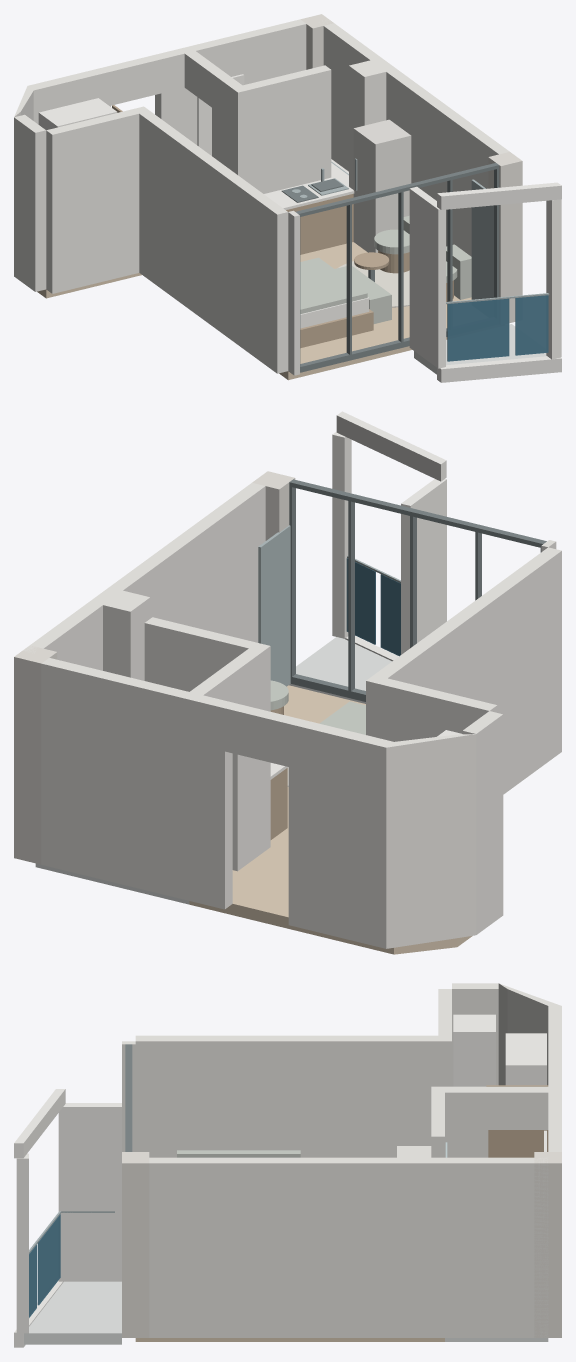
Rendered from apartment.glb.
The picture shows the model from 3 angles, top to bottom: view 1: azimuth 30°, elevation 25°; view 2: azimuth 150°, elevation 25°; view 3: azimuth 270°, elevation 25°; orthographic projection. The views are drawn at different scales.
Visible parts, largest first — view 1: West party wall, Alcove south wall, Bathroom south wall, East wall south, North wall east, Balcony divider, Refrigerator, Balcony glass (×2), West alcove wall, Bathroom west wall, SE Column, East wall north (+28 smaller); view 2: North wall east, West party wall, North wall west, Chamfer wall, East wall south, Bathroom west wall, NE Column, West alcove wall, Alcove south wall, Balcony divider, Bathroom south wall, Balcony open door (+17 smaller); view 3: East wall south, West party wall, East wall north, Balcony divider, East shaft wall, Balcony slab, SE Column, NE Column, Bathroom west wall, Wardrobe carcass west, Chamfer wall, Bathroom door lintel (+15 smaller).
Part boxes in pixels (left/top/right/bottom): West party wall: left=139, top=111, right=288, bottom=373; Alcove south wall: left=46, top=106, right=149, bottom=293; Bathroom south wall: left=232, top=65, right=331, bottom=193; East wall south: left=386, top=69, right=509, bottom=256; North wall east: left=155, top=19, right=306, bottom=144; Balcony divider: left=409, top=186, right=445, bottom=368; Refrigerator: left=353, top=119, right=411, bottom=252; Balcony glass (×2): left=447, top=295, right=548, bottom=361; West alcove wall: left=14, top=114, right=46, bottom=291; Bathroom west wall: left=212, top=71, right=248, bottom=182; SE Column: left=488, top=152, right=522, bottom=323; East wall north: left=319, top=19, right=380, bottom=171; North wall east: left=41, top=658, right=232, bottom=909; West party wall: left=374, top=547, right=561, bottom=794; North wall west: left=288, top=718, right=393, bottom=948; Chamfer wall: left=386, top=734, right=476, bottom=948; East wall south: left=109, top=483, right=265, bottom=642; Bathroom west wall: left=224, top=642, right=270, bottom=871; NE Column: left=14, top=646, right=57, bottom=864; West alcove wall: left=462, top=711, right=503, bottom=934; Alcove south wall: left=366, top=675, right=497, bottom=741; Balcony divider: left=401, top=479, right=446, bottom=654; Bathroom south wall: left=144, top=617, right=270, bottom=845; Balcony open door: left=258, top=525, right=290, bottom=686; East wall south: left=149, top=1157, right=396, bottom=1337; West party wall: left=135, top=1035, right=438, bottom=1157; East wall north: left=431, top=1157, right=548, bottom=1337; Balcony divider: left=58, top=1103, right=121, bottom=1281; East shaft wall: left=397, top=1146, right=431, bottom=1337; Balcony slab: left=24, top=1281, right=121, bottom=1344; SE Column: left=122, top=1152, right=149, bottom=1337; NE Column: left=534, top=1152, right=561, bottom=1337; Bathroom west wall: left=431, top=1086, right=488, bottom=1157; Wardrobe carcass west: left=453, top=1014, right=495, bottom=1086; Chamfer wall: left=498, top=983, right=561, bottom=1085; Bathroom door lintel: left=488, top=1086, right=548, bottom=1129.
Size of the model in its own units: 6.2 by 3.28 by 7.97.
